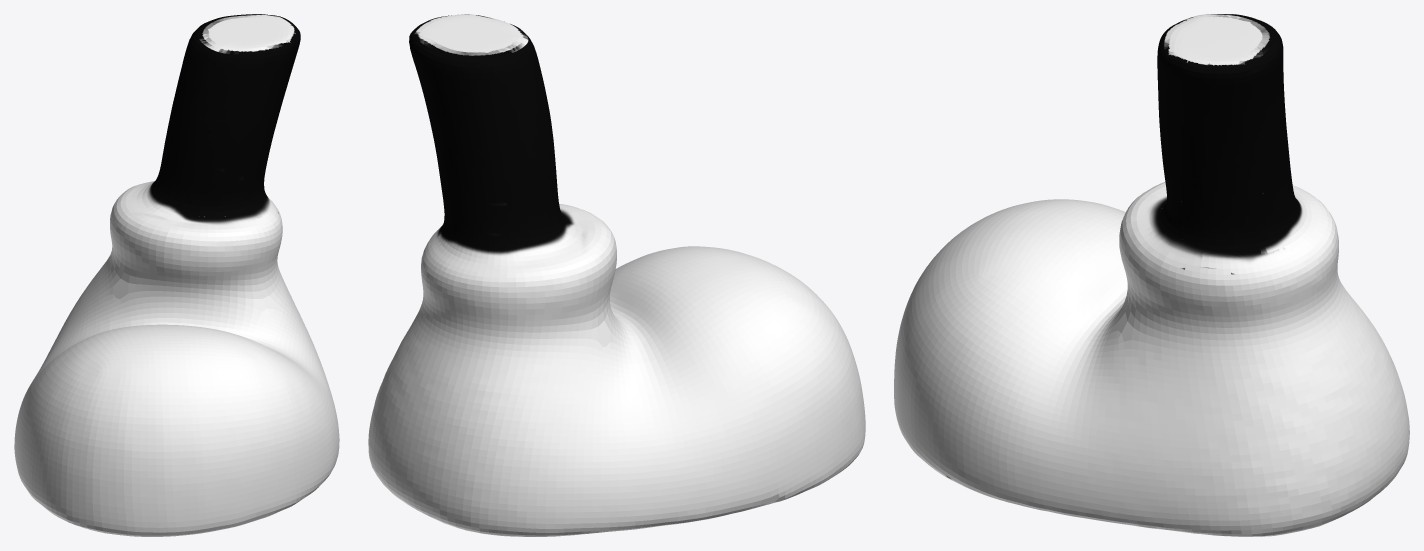
3 renders of one model, left to right at view 1: azimuth 30°, elevation 25°; view 2: azimuth 150°, elevation 25°; view 3: azimuth 270°, elevation 25°, orthographic. The views are drawn at different scales.
Parts seen in each view (by area): view 1: LEG_R; view 2: LEG_R; view 3: LEG_R.
Part boxes in pixels (box(x1,y1,x2,y2)): LEG_R: box(14, 14, 339, 536); LEG_R: box(368, 14, 865, 536); LEG_R: box(894, 14, 1409, 536).
Bounding box in the file's own units: 30.14 × 32.24 × 32.32.
Materials: 1 (1 with a texture image).
